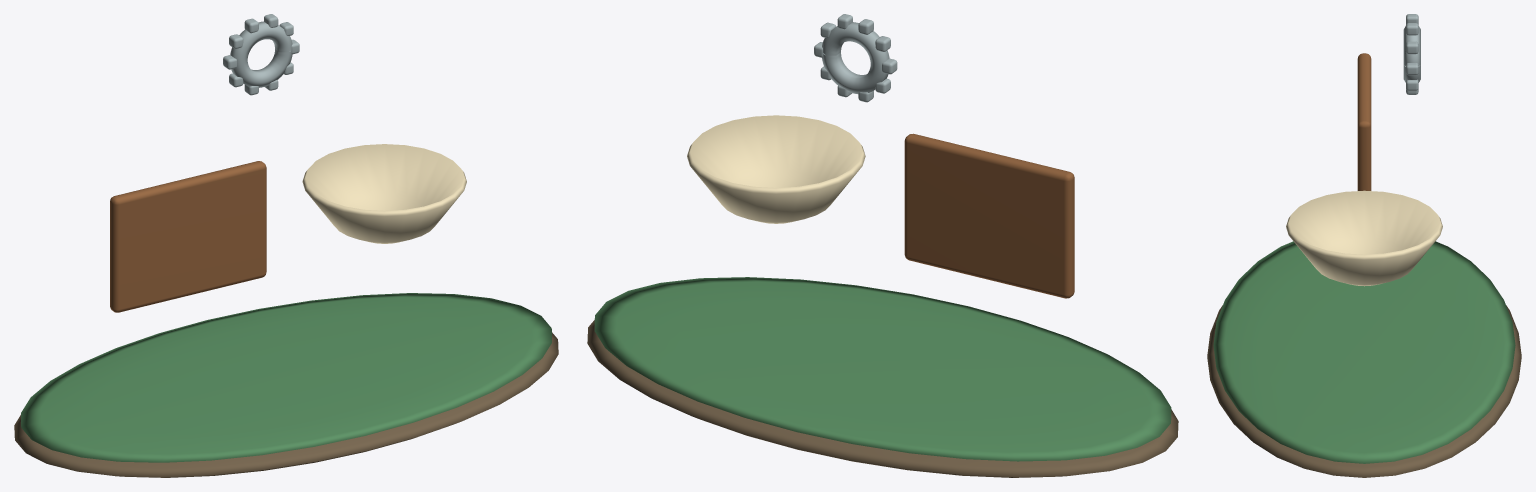
File: complete-third-raw-material-ingredients.glb
3 views of the same model, side by side, from view 1: azimuth 30°, elevation 25°; view 2: azimuth 150°, elevation 25°; view 3: azimuth 270°, elevation 25° (orthographic). The views are drawn at different scales.
Parts seen in each view (by area): view 1: complete-third-raw-material-ingredients_surface_01, complete-third-raw-material-ingredients_surface_02, complete-third-raw-material-ingredients_surface_03, complete-third-raw-material-ingredients_surface_00, complete-third-raw-material-ingredients_surface_04; view 2: complete-third-raw-material-ingredients_surface_01, complete-third-raw-material-ingredients_surface_02, complete-third-raw-material-ingredients_surface_03, complete-third-raw-material-ingredients_surface_00, complete-third-raw-material-ingredients_surface_04; view 3: complete-third-raw-material-ingredients_surface_01, complete-third-raw-material-ingredients_surface_03, complete-third-raw-material-ingredients_surface_00, complete-third-raw-material-ingredients_surface_02, complete-third-raw-material-ingredients_surface_04.
Boxes of the visible parts, box(x1,y1,x2,y2) form: complete-third-raw-material-ingredients_surface_01: box(21, 293, 551, 462); complete-third-raw-material-ingredients_surface_02: box(110, 161, 266, 312); complete-third-raw-material-ingredients_surface_03: box(302, 144, 466, 243); complete-third-raw-material-ingredients_surface_00: box(14, 332, 558, 477); complete-third-raw-material-ingredients_surface_04: box(223, 14, 299, 95); complete-third-raw-material-ingredients_surface_01: box(594, 277, 1171, 461); complete-third-raw-material-ingredients_surface_02: box(904, 133, 1074, 298); complete-third-raw-material-ingredients_surface_03: box(687, 115, 865, 223); complete-third-raw-material-ingredients_surface_00: box(587, 320, 1178, 477); complete-third-raw-material-ingredients_surface_04: box(814, 14, 897, 102); complete-third-raw-material-ingredients_surface_01: box(1213, 241, 1515, 463); complete-third-raw-material-ingredients_surface_03: box(1286, 190, 1442, 286); complete-third-raw-material-ingredients_surface_00: box(1207, 305, 1521, 477); complete-third-raw-material-ingredients_surface_02: box(1357, 53, 1371, 190); complete-third-raw-material-ingredients_surface_04: box(1403, 14, 1420, 94).
Bounding box in the file's own units: 4.56 × 3.08 × 2.5.
